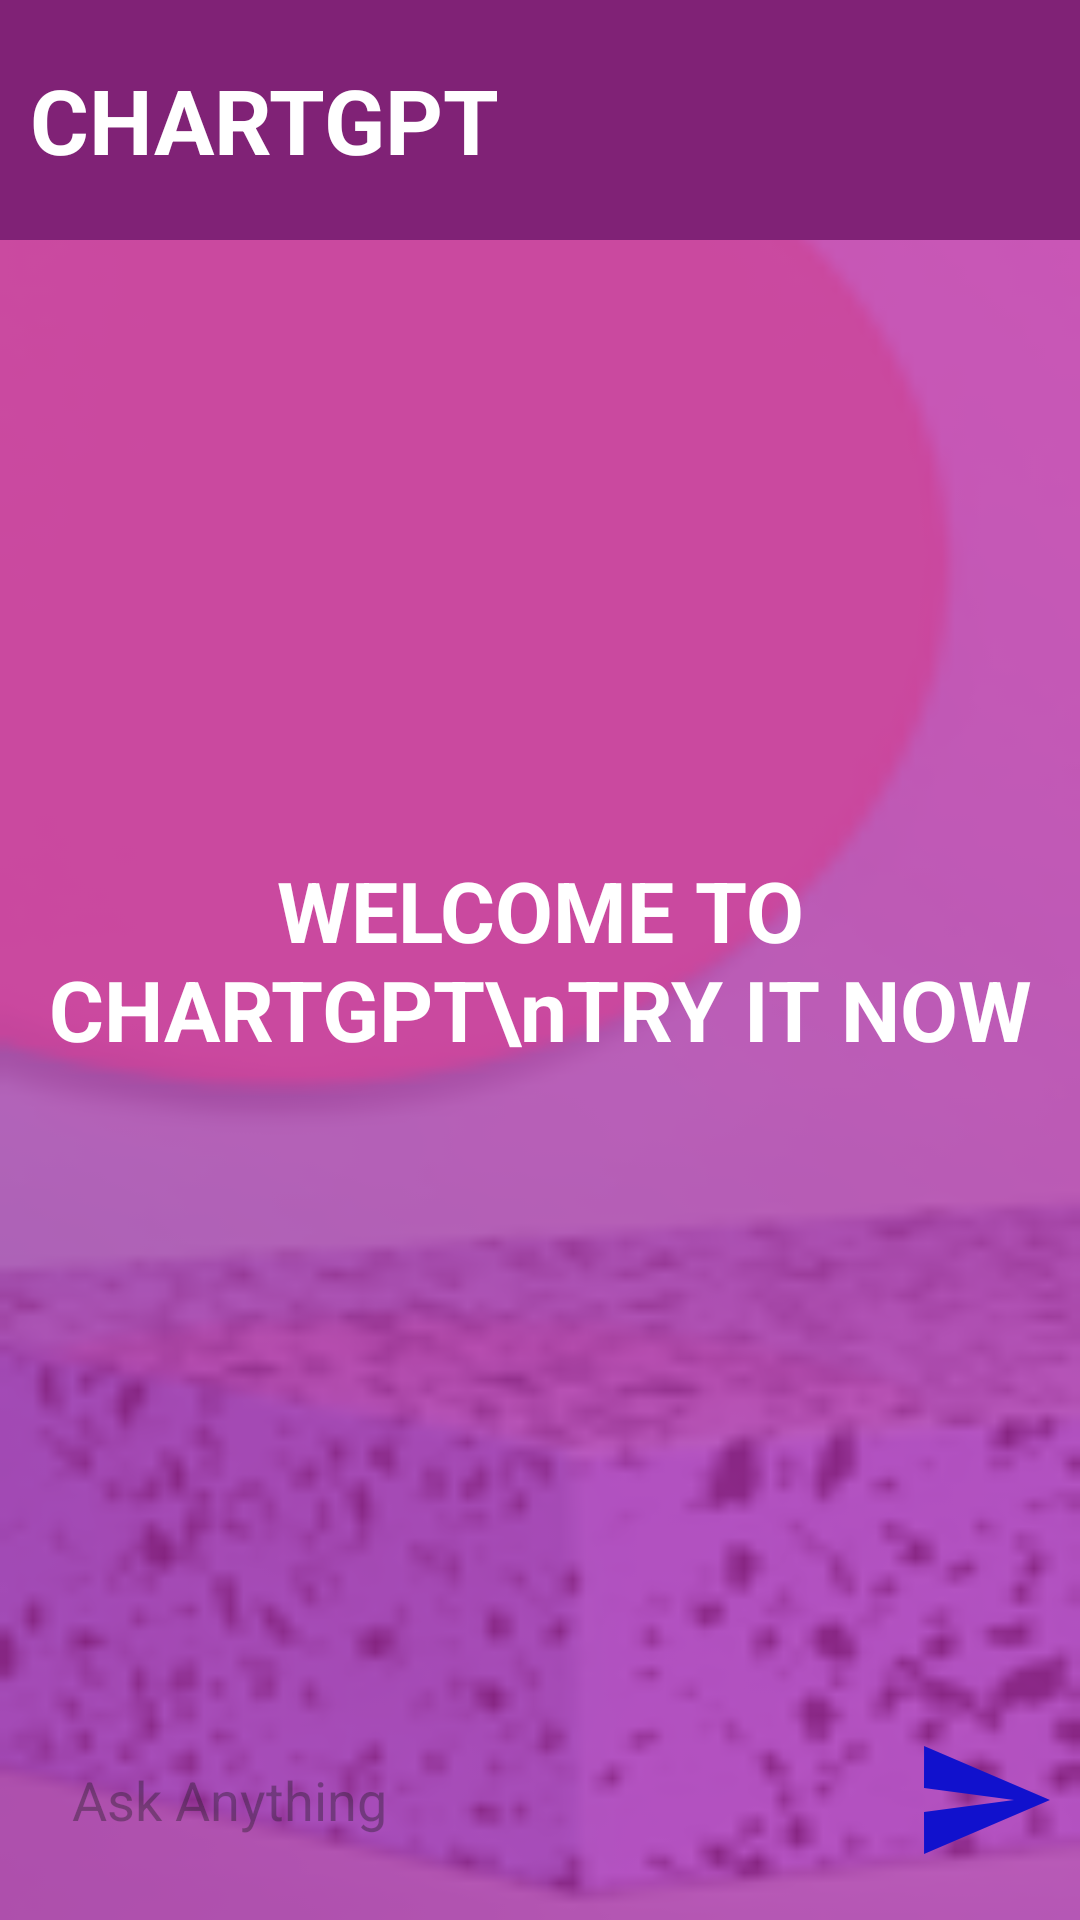

Screen size 1080 × 1920. Icon name, then its box in pixels as box(x1, y1, x2, y2):
send: box(924, 1746, 1050, 1860)
